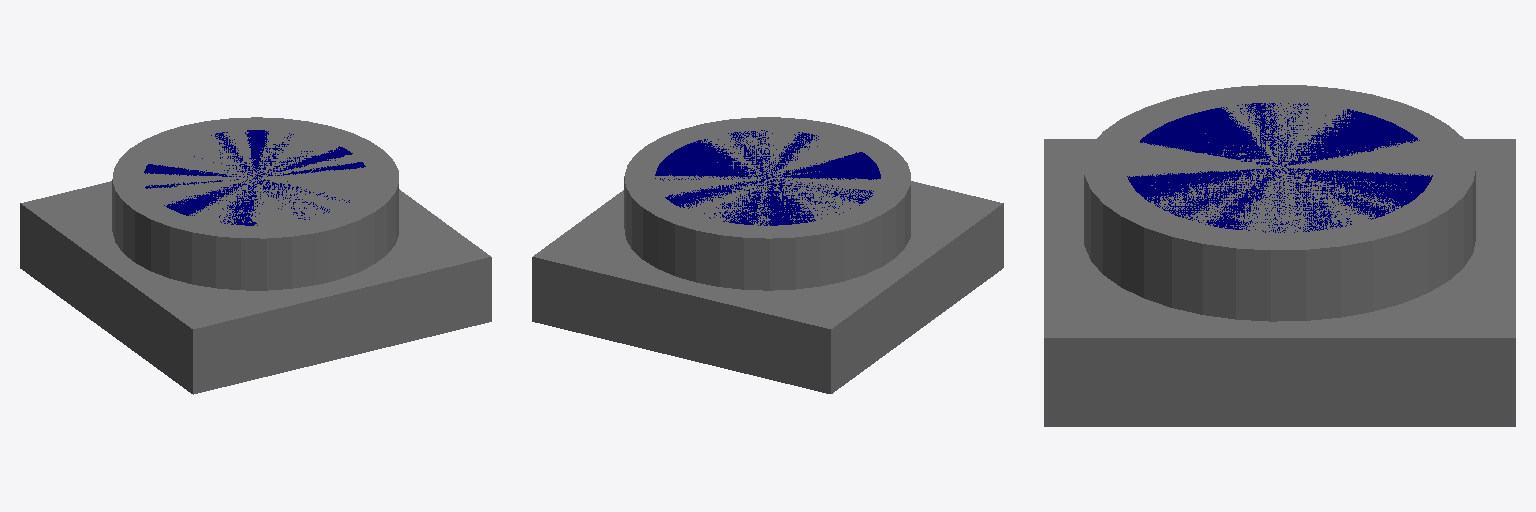
The robot description file, URDF, robot "base-m.SLDASM":
<?xml version="1.0" encoding="utf-8"?>
<!-- This URDF was automatically created by SolidWorks to URDF Exporter! Originally created by [author] ([email redacted]) 
     Commit Version: 1.6.0-4-g7f85cfe  Build Version: 1.6.7995.38578
     For more information, please see http://wiki.ros.org/sw_urdf_exporter -->
<robot
  name="base-m.SLDASM">
  <link
    name="b_body">
    <inertial>
      <origin
        xyz="-1.2862E-17 -2.139E-18 0.018175"
        rpy="0 0 0" />
      <mass
        value="3.3499" />
      <inertia
        ixx="0.0034892"
        ixy="-6.7063E-20"
        ixz="-2.7087E-19"
        iyy="0.0034892"
        iyz="-2.2352E-19"
        izz="0.0060699" />
    </inertial>
    <visual>
      <origin
        xyz="0 0 0"
        rpy="0 0 0" />
      <geometry>
        <mesh
          filename="package://base-m.SLDASM/meshes/b_body.STL" />
      </geometry>
      <material
        name="body">
        <color
          rgba="0.5 0.5 0.5 1" />
      </material>
    </visual>
    <collision>
      <origin
        xyz="0 0 0"
        rpy="0 0 0" />
      <geometry>
        <mesh
          filename="package://base-m.SLDASM/meshes/b_body.STL" />
      </geometry>
    </collision>
  </link>
  <link
    name="b_in">
    <inertial>
      <origin
        xyz="-1.2862E-17 1.7762E-17 0.024125"
        rpy="0 0 0" />
      <mass
        value="3.3499" />
      <inertia
        ixx="0.0034892"
        ixy="6.7063E-20"
        ixz="2.7087E-19"
        iyy="0.0034892"
        iyz="-2.2352E-19"
        izz="0.0060699" />
    </inertial>
    <visual>
      <origin
        xyz="0 0 0"
        rpy="0 0 0" />
      <geometry>
        <mesh
          filename="package://base-m.SLDASM/meshes/b_in.STL" />
      </geometry>
      <material
        name="blue">
        <color
          rgba="0 0 0.5 1" />
      </material>
    </visual>
    <collision>
      <origin
        xyz="0 0 0"
        rpy="0 0 0" />
      <geometry>
        <mesh
          filename="package://base-m.SLDASM/meshes/b_in.STL" />
      </geometry>
    </collision>
  </link>
  <joint
    name="b_medium"
    type="fixed">
    <origin
      xyz="0 0 0.0423"
      rpy="3.14159265358979 0 0" />
    <parent
      link="b_body" />
    <child
      link="b_in" />
    <axis
      xyz="0 0 0" />
  </joint>
</robot>

--- Facts derived from the render (not from the file) ---
Views: 3 orthographic renders of the robot side by side, from view 1: azimuth 30°, elevation 25°; view 2: azimuth 150°, elevation 25°; view 3: azimuth 270°, elevation 25°.
Robot: base-m.SLDASM — 2 links, 1 joints (1 fixed); root link b_body; default pose: every joint at zero.
Links seen in each view (by area): view 1: b_body, b_in; view 2: b_body, b_in; view 3: b_body, b_in.
Boxes of the visible links, x1,y1,x2,y2 form: b_body: (20,117,491,394); b_in: (144,130,365,225); b_body: (532,117,1003,393); b_in: (655,130,880,225); b_body: (1044,85,1515,426); b_in: (1127,103,1432,232).
Bounding box of the posed robot: 0.1128 × 0.1128 × 0.0423 m (x, y, z).
Meshes: 2 distinct files referenced, 2 mesh visuals loaded (2 binary STL).